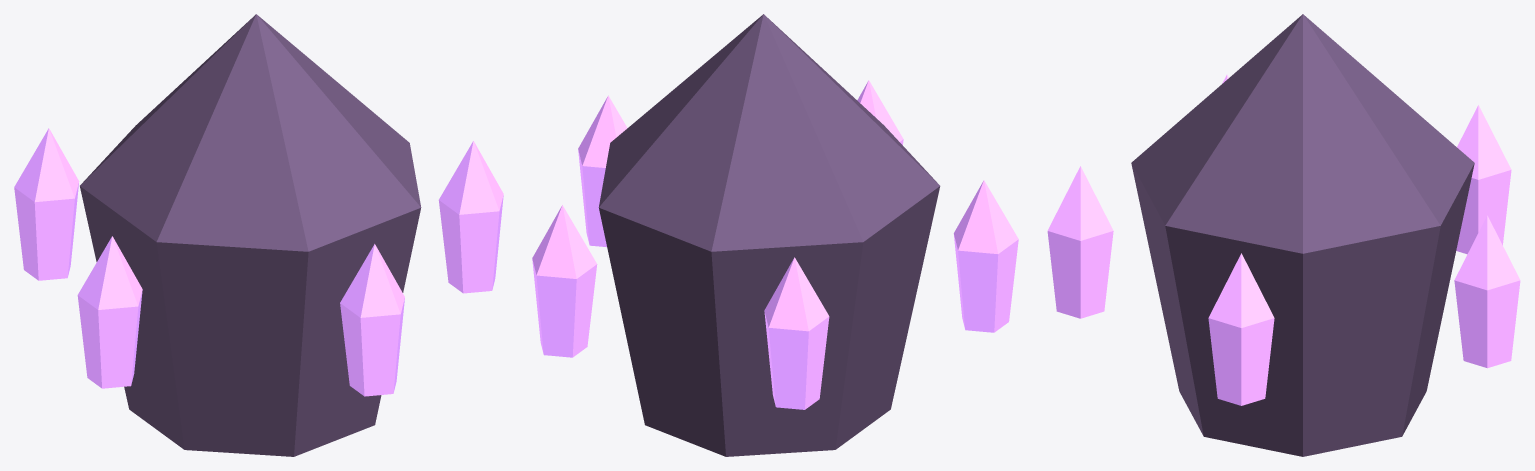
Rendered from deep-fracture-creature-AnnoyanceWisp-seidr.glb.
3 views of the same model, side by side, from view 1: azimuth 30°, elevation 25°; view 2: azimuth 150°, elevation 25°; view 3: azimuth 270°, elevation 25° (orthographic).
Visible parts, largest first — view 1: shell, orbit-shard-2, orbit-shard-3, orbit-shard-0, orbit-shard-1; view 2: shell, orbit-shard-3, orbit-shard-2, orbit-shard-4, orbit-shard-0, orbit-shard-1; view 3: shell, orbit-shard-0, orbit-shard-1, orbit-shard-4, orbit-shard-3.
Part boxes in pixels (left/top/right/bottom): shell: left=80, top=14, right=421, bottom=456; orbit-shard-2: left=77, top=236, right=142, bottom=388; orbit-shard-3: left=14, top=128, right=79, bottom=280; orbit-shard-0: left=438, top=141, right=503, bottom=293; orbit-shard-1: left=340, top=244, right=404, bottom=396; shell: left=598, top=14, right=940, bottom=456; orbit-shard-3: left=764, top=257, right=829, bottom=409; orbit-shard-2: left=953, top=180, right=1018, bottom=332; orbit-shard-4: left=532, top=205, right=597, bottom=357; orbit-shard-0: left=578, top=95, right=627, bottom=247; orbit-shard-1: left=857, top=80, right=903, bottom=145; shell: left=1131, top=14, right=1474, bottom=456; orbit-shard-0: left=1208, top=253, right=1274, bottom=405; orbit-shard-1: left=1047, top=166, right=1113, bottom=318; orbit-shard-4: left=1454, top=215, right=1520, bottom=368; orbit-shard-3: left=1456, top=105, right=1511, bottom=254.
Bounding box in the file's own units: 1.05 × 0.9676 × 1.02.
